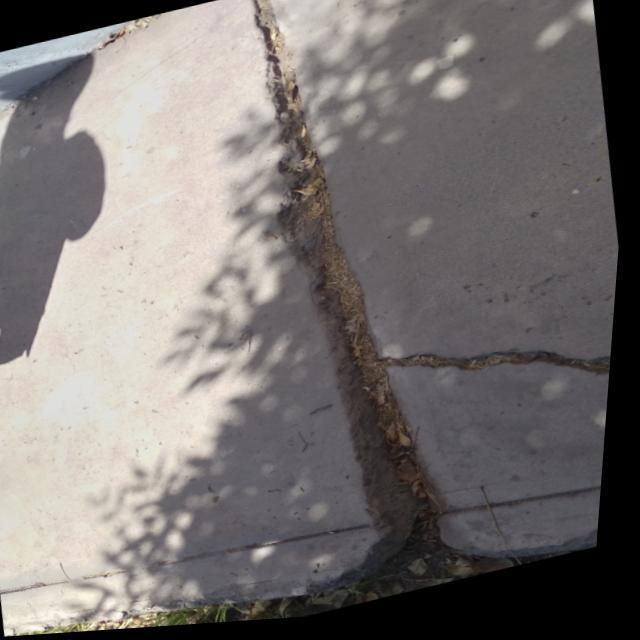hole: (215, 0, 498, 612)
